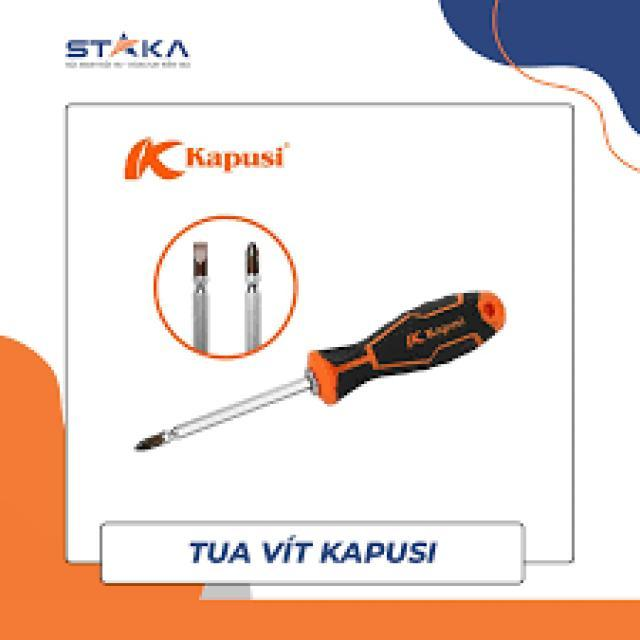screwdriver: (126, 288, 514, 460)
